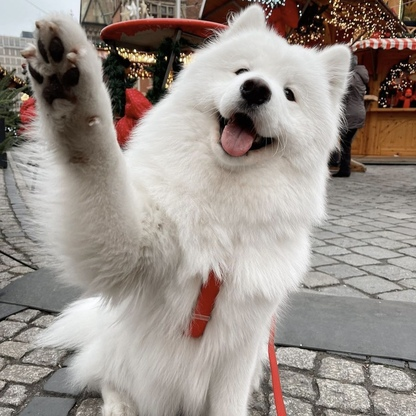samoyed: (15, 1, 367, 416)
